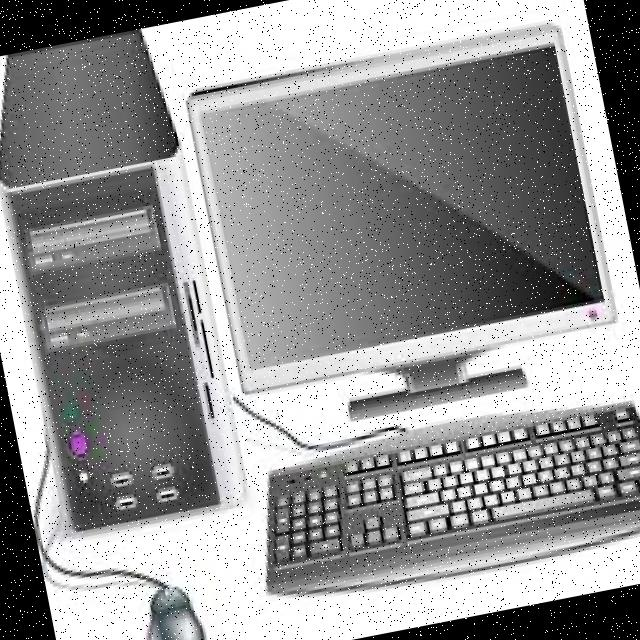Computer: (0, 24, 258, 551)
Monitor: (172, 0, 630, 416)
